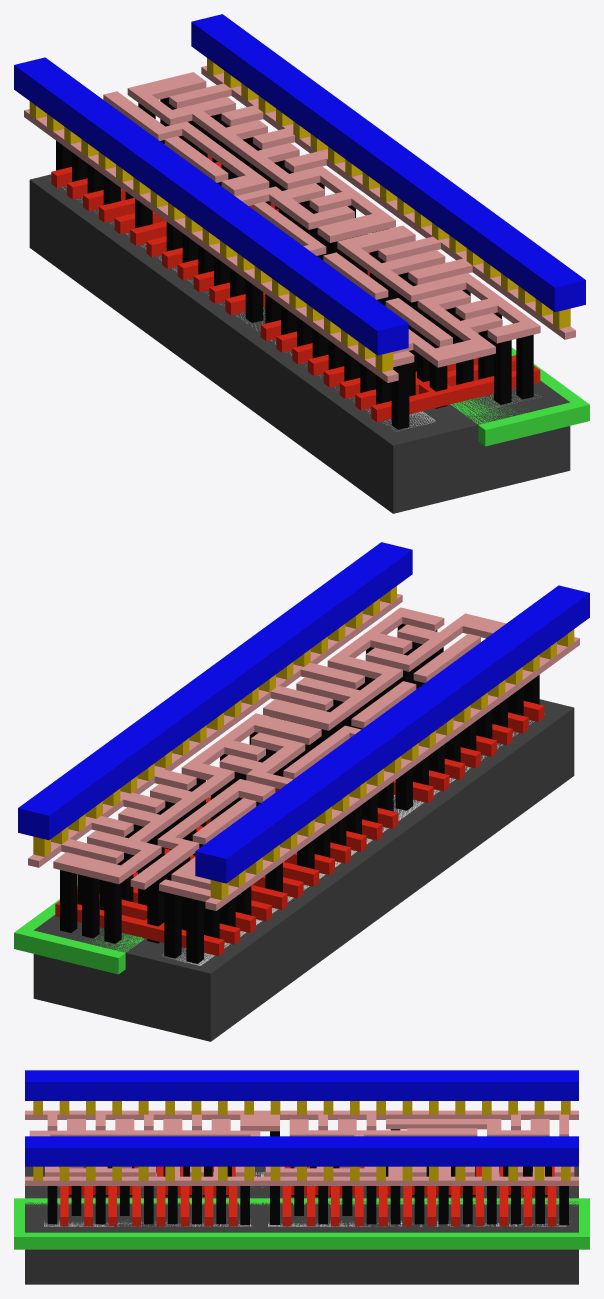
Rendered from sky130_fd_sc_hd__a2bb2oi_4.obj.
3 views of the same model, one above another, from view 1: azimuth 30°, elevation 25°; view 2: azimuth 150°, elevation 25°; view 3: azimuth 270°, elevation 25° (orthographic). The views are drawn at different scales.
Parts seen in each view (by area): view 1: subs, metal1, li, licon, poly, mcon, nwell; view 2: subs, metal1, li, licon, poly, mcon, nwell, diff; view 3: metal1, subs, li, nwell, licon, poly, mcon, tap.
Part boxes in pixels (<box>): subs: <box>29,174,570,513</box>; metal1: <box>14,14,585,355</box>; li: <box>24,65,575,382</box>; licon: <box>56,97,533,429</box>; poly: <box>51,144,540,421</box>; mcon: <box>29,58,570,372</box>; nwell: <box>450,332,589,446</box>; subs: <box>33,699,574,1041</box>; metal1: <box>18,542,589,883</box>; li: <box>28,593,579,910</box>; licon: <box>60,624,539,963</box>; poly: <box>55,701,544,956</box>; mcon: <box>33,586,574,900</box>; nwell: <box>14,796,210,974</box>; diff: <box>162,720,534,965</box>; metal1: <box>25,1070,578,1166</box>; subs: <box>25,1166,578,1284</box>; li: <box>25,1110,578,1185</box>; nwell: <box>14,1198,589,1249</box>; licon: <box>47,1129,568,1224</box>; poly: <box>60,1166,556,1226</box>; mcon: <box>33,1101,570,1180</box>; tap: <box>44,1219,566,1226</box>.
Size of the model in its own units: 3.2 by 2.74 by 10.04.
